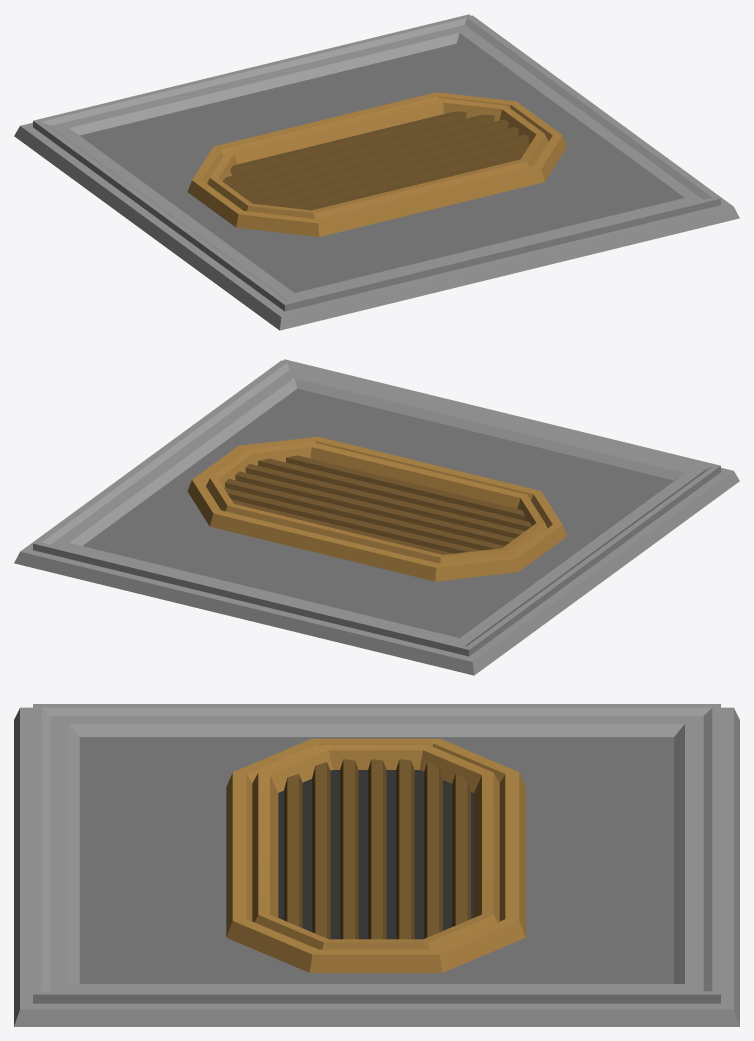
Rendered from RoofTile_OrangeVent.glb.
3 renders of one model, top to bottom at view 1: azimuth 30°, elevation 25°; view 2: azimuth 150°, elevation 25°; view 3: azimuth 270°, elevation 25°, orthographic. The views are drawn at different scales.
Visible parts, largest first — view 1: RoofTile_OrangeVent; view 2: RoofTile_OrangeVent; view 3: RoofTile_OrangeVent.
Part boxes in pixels (left/top/right/bottom): RoofTile_OrangeVent: left=14, top=14, right=739, bottom=330; RoofTile_OrangeVent: left=14, top=359, right=739, bottom=675; RoofTile_OrangeVent: left=14, top=704, right=739, bottom=1026.
Bounding box in the file's own units: 2 × 0.1157 × 2.
